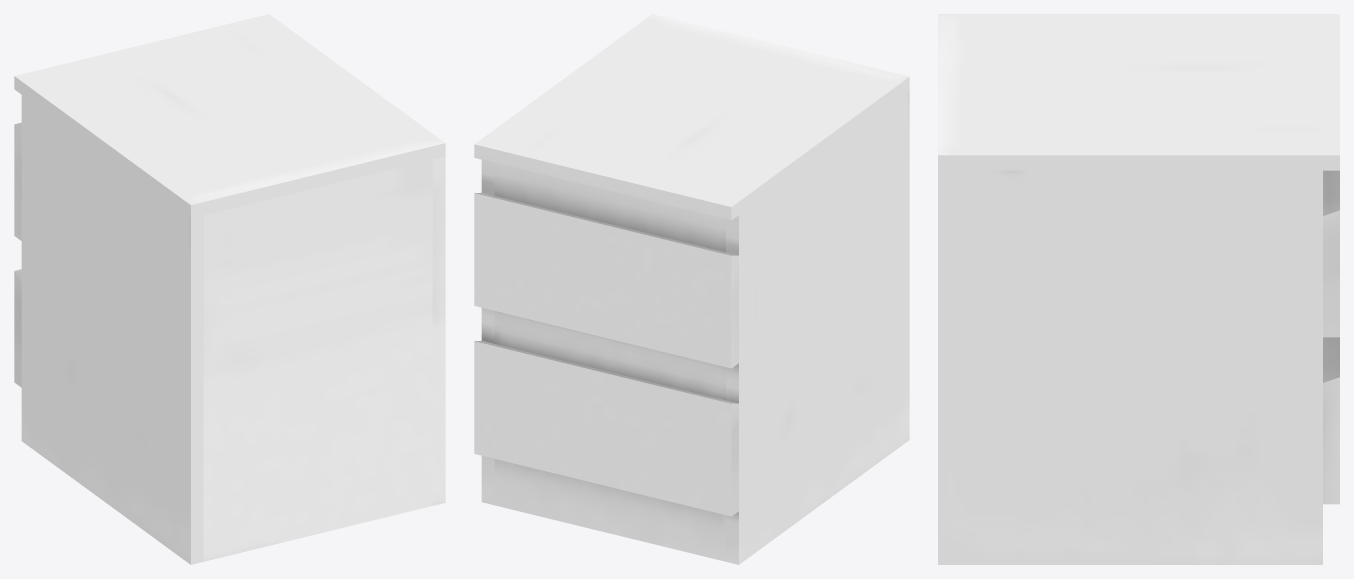
File: ChestShapes.glb
3 renders of one model, left to right at view 1: azimuth 30°, elevation 25°; view 2: azimuth 150°, elevation 25°; view 3: azimuth 270°, elevation 25°, orthographic. The views are drawn at different scales.
Parts seen in each view (by area): view 1: ChestShapes; view 2: ChestShapes; view 3: ChestShapes.
Part boxes in pixels (x1,y1,x2,y2): ChestShapes: [14, 14, 445, 564]; ChestShapes: [474, 14, 909, 564]; ChestShapes: [938, 14, 1339, 564].
Bounding box in the file's own units: 0.4 × 0.54 × 0.48.
Materials: 1 (1 with a texture image).
